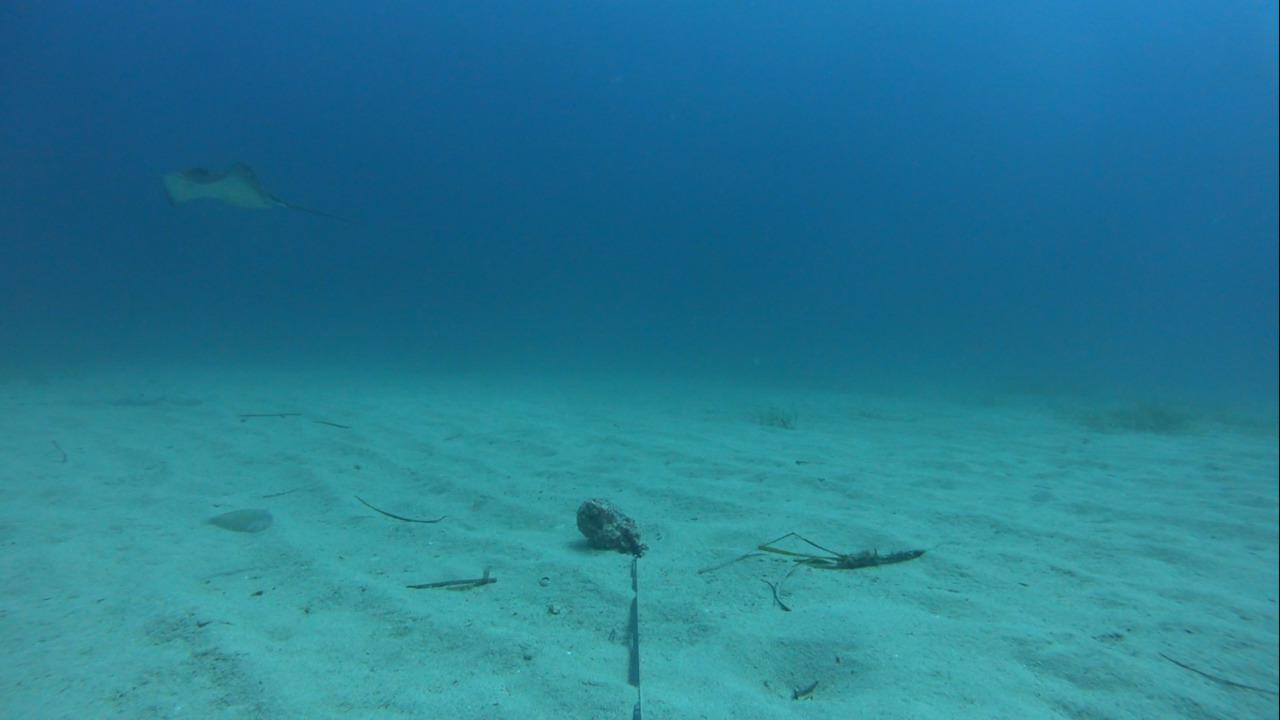myliobatis: (150, 155, 340, 236)
raor: (191, 504, 277, 538)
